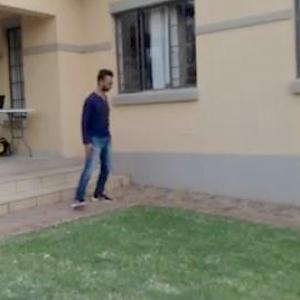follow: (83, 66, 123, 208)
